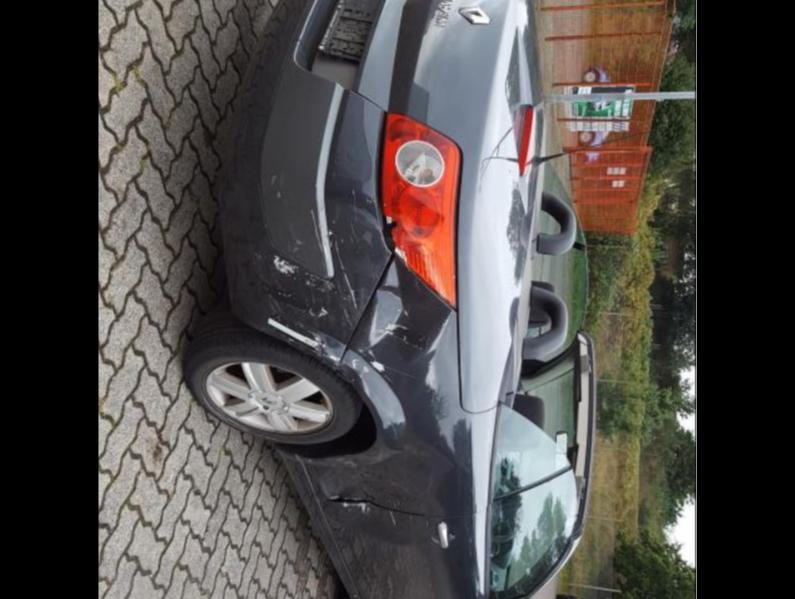Broken part: (379, 109, 462, 300), (329, 248, 396, 373), (322, 496, 434, 519)
Dent: (357, 253, 460, 449), (311, 467, 429, 513), (325, 503, 435, 546), (397, 429, 461, 487), (323, 173, 383, 233), (340, 362, 369, 393)
Missing part: (321, 0, 381, 59)
Scratch: (330, 228, 358, 311), (266, 316, 321, 351), (369, 305, 411, 345), (335, 502, 399, 525), (367, 359, 419, 381), (307, 207, 323, 255), (271, 254, 300, 275), (394, 334, 425, 349), (357, 362, 370, 397), (265, 291, 284, 313), (386, 495, 418, 508), (301, 277, 326, 291), (309, 329, 327, 348), (349, 183, 358, 220), (319, 278, 338, 294), (328, 494, 371, 501), (341, 501, 365, 513), (308, 305, 329, 318), (348, 218, 359, 242), (341, 307, 353, 328), (325, 354, 341, 366), (358, 348, 377, 357), (269, 170, 278, 189), (343, 460, 356, 472), (346, 358, 360, 369), (388, 509, 396, 528), (331, 205, 339, 223), (391, 420, 398, 440), (342, 496, 372, 500), (277, 290, 294, 296), (307, 271, 321, 278), (280, 169, 284, 189), (291, 245, 299, 254), (347, 234, 353, 245), (332, 457, 344, 462), (293, 453, 300, 461), (282, 198, 289, 205), (287, 337, 295, 343), (275, 189, 281, 197), (253, 252, 261, 258), (365, 503, 370, 512), (329, 495, 340, 499), (402, 310, 409, 316), (295, 238, 302, 244), (408, 509, 412, 519), (409, 513, 413, 522), (393, 497, 396, 507), (425, 520, 428, 528), (307, 457, 311, 462), (264, 286, 270, 289), (397, 499, 399, 507), (388, 497, 390, 504)
